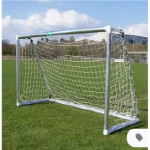goals: (12, 25, 142, 139)
